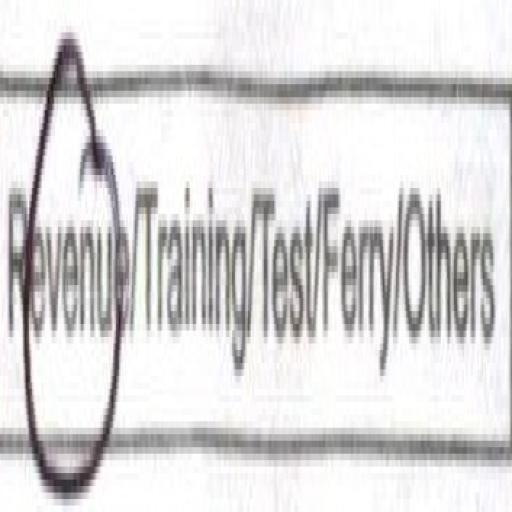check: (0, 0, 132, 498)
